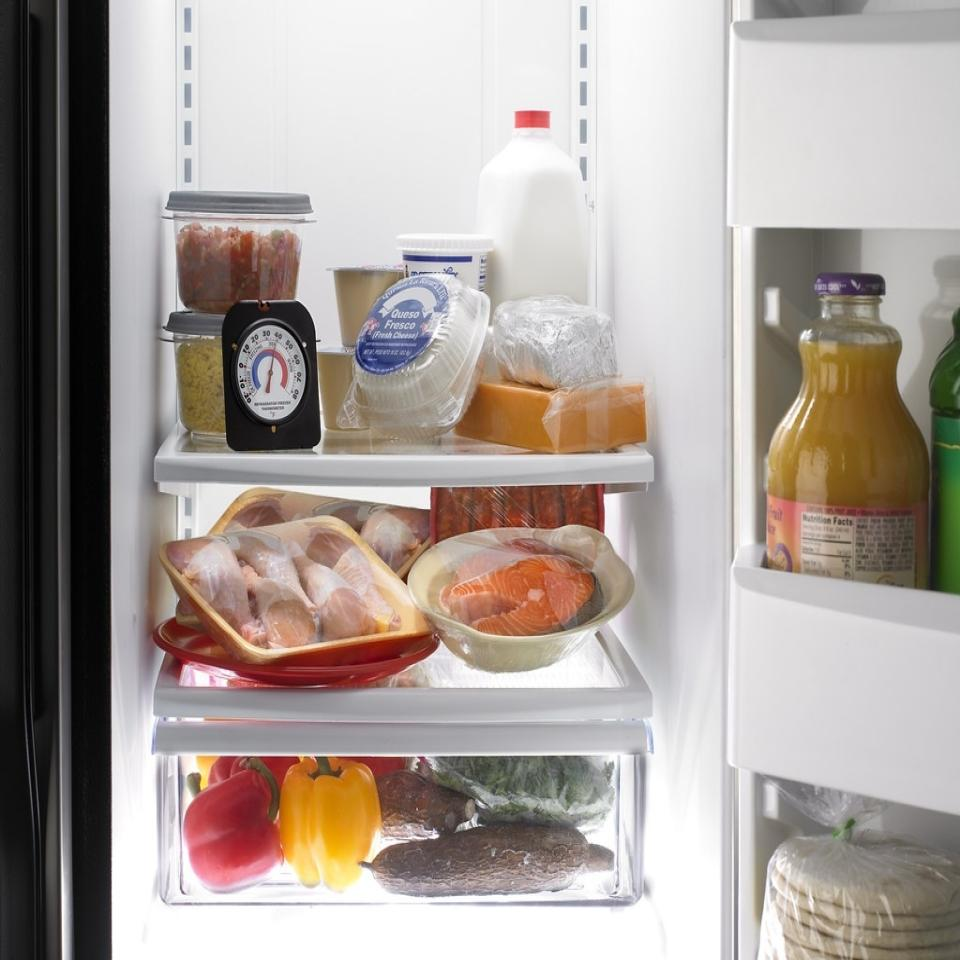Carne pollo: (159, 514, 401, 674)
Leche: (470, 100, 608, 312)
Pepino: (368, 822, 614, 902)
